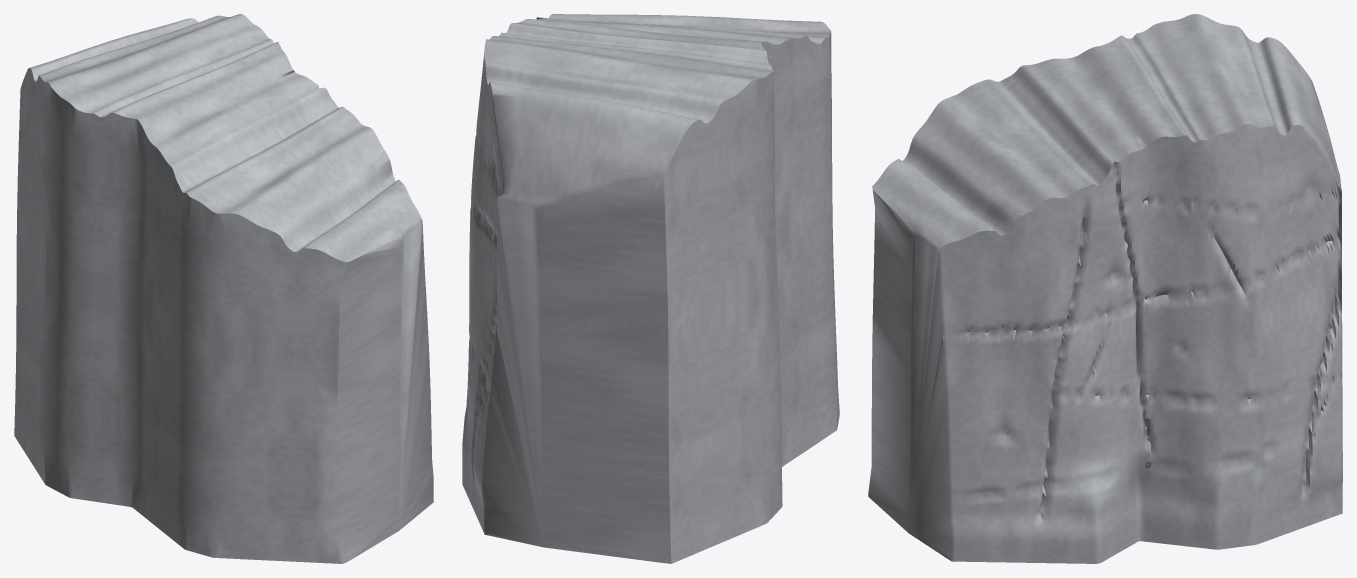
File: refined-lod0.glb
The picture shows the model from 3 angles, left to right: view 1: azimuth 30°, elevation 25°; view 2: azimuth 150°, elevation 25°; view 3: azimuth 270°, elevation 25°; orthographic projection. The views are drawn at different scales.
Parts seen in each view (by area): view 1: Refined_Pair_LOD0; view 2: Refined_Pair_LOD0; view 3: Refined_Pair_LOD0.
Boxes of the visible parts, bbox=[...] form: Refined_Pair_LOD0: bbox=[14, 14, 433, 563]; Refined_Pair_LOD0: bbox=[462, 14, 839, 563]; Refined_Pair_LOD0: bbox=[868, 14, 1342, 563].
Size of the model in its own units: 23.6 by 32.19 by 33.55.
1 material, 1 textured.
